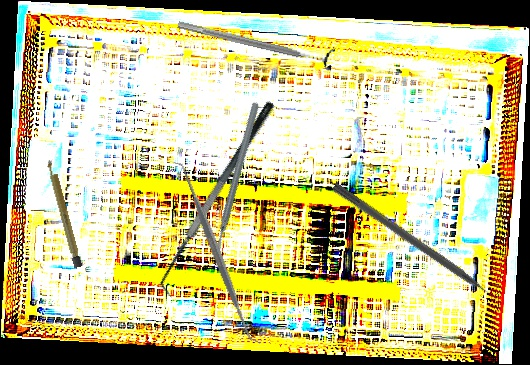Chopper: (161, 100, 315, 266)
Fixation Ring: (175, 12, 336, 73)
Pusher: (330, 181, 507, 311)
Scalpel Handle: (45, 158, 84, 269)
Spatula Surgical: (147, 99, 291, 298), (170, 154, 264, 352)
